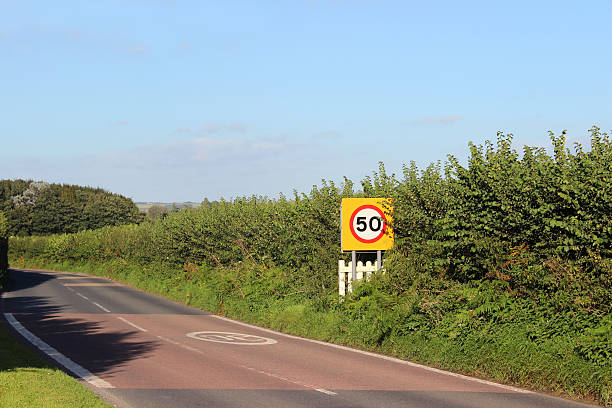Speed_limit_50km: (349, 204, 386, 243)
